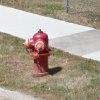Hydrant: (19, 22, 74, 82)
